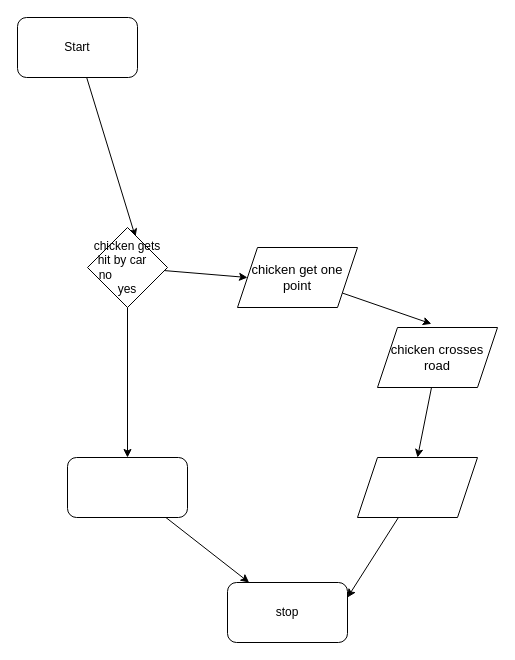
The diagram is 515 pixels wide and 660 high, and some of its shapes have lost their labels. The shapes that lost their labels are listed below. From the top down, each one's box as (x1, y1, x2, y2) in pixels, then its label:
(66, 456, 188, 518): dead
(356, 456, 478, 518): chicken keeps crossing road until dead
